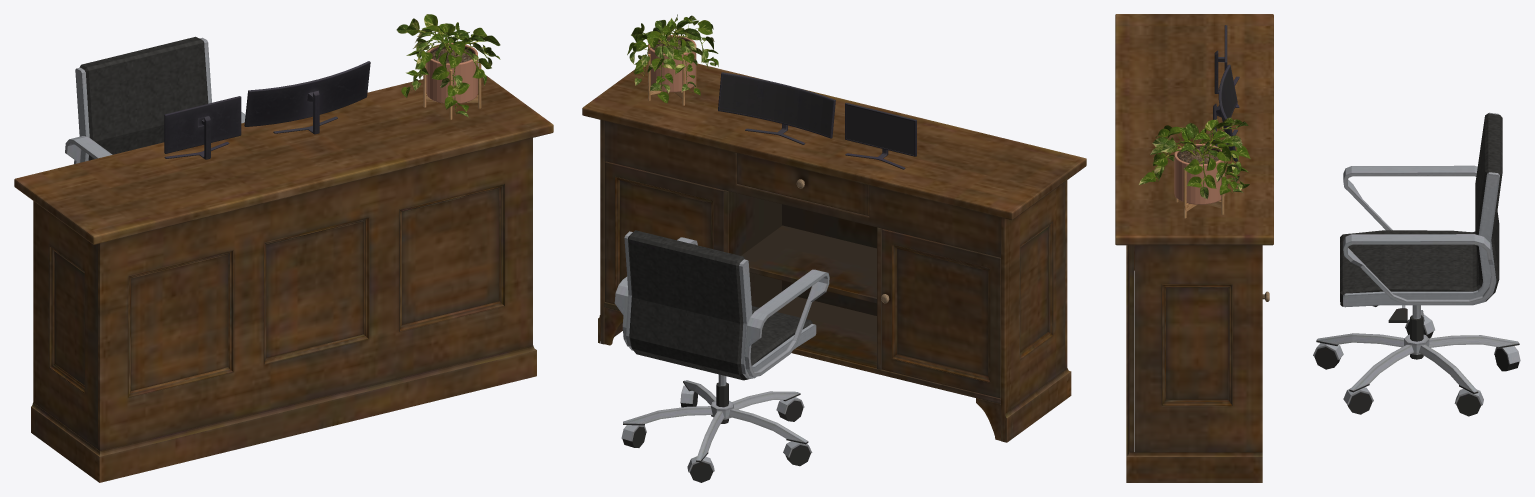
File: reception_desk.glb
3 views of the same model, side by side, from view 1: azimuth 30°, elevation 25°; view 2: azimuth 150°, elevation 25°; view 3: azimuth 270°, elevation 25° (orthographic). The views are drawn at different scales.
Parts seen in each view (by area): view 1: bar_counter_3_n0, leather_office_chair_0_n3, dual_monitors_3_n1, pothos_0_n2, dual_monitors_0_n1, pothos_1_n2; view 2: bar_counter_3_n0, leather_office_chair_0_n3, dual_monitors_3_n1, pothos_0_n2, dual_monitors_0_n1, pothos_1_n2; view 3: bar_counter_3_n0, leather_office_chair_0_n3, pothos_0_n2, pothos_1_n2, dual_monitors_3_n1.
Part boxes in pixels (x1,y1,x2,y2): bar_counter_3_n0: [14, 76, 553, 482]; leather_office_chair_0_n3: [65, 36, 245, 164]; dual_monitors_3_n1: [244, 61, 370, 126]; pothos_0_n2: [396, 14, 500, 117]; dual_monitors_0_n1: [164, 96, 241, 153]; pothos_1_n2: [423, 43, 481, 119]; bar_counter_3_n0: [582, 62, 1086, 442]; leather_office_chair_0_n3: [614, 230, 829, 482]; dual_monitors_3_n1: [718, 72, 835, 138]; pothos_0_n2: [627, 14, 718, 103]; dual_monitors_0_n1: [845, 102, 916, 156]; pothos_1_n2: [648, 35, 696, 105]; bar_counter_3_n0: [1115, 14, 1273, 482]; leather_office_chair_0_n3: [1313, 112, 1520, 416]; pothos_0_n2: [1138, 117, 1250, 199]; pothos_1_n2: [1174, 144, 1225, 218]; dual_monitors_3_n1: [1216, 64, 1237, 161].
Size of the model in its own units: 2 by 1.4 by 1.53.
Materials: 7 (7 with a texture image).
